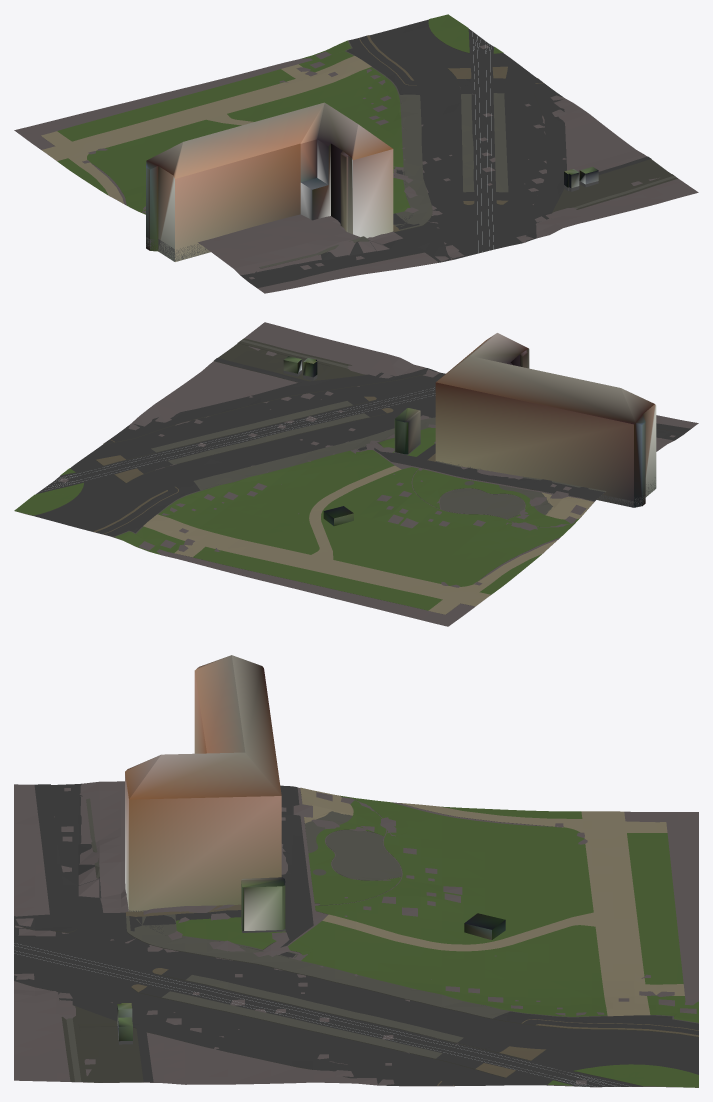
3 views of the same model, one above another, from view 1: azimuth 30°, elevation 25°; view 2: azimuth 150°, elevation 25°; view 3: azimuth 270°, elevation 25° (orthographic). The views are drawn at different scales.
Parts seen in each view (by area): view 1: c_m02_m04; view 2: c_m02_m04; view 3: c_m02_m04.
Part boxes in pixels (box(x1,y1,x2,y2)): c_m02_m04: box(14, 14, 698, 293); c_m02_m04: box(14, 322, 698, 626); c_m02_m04: box(14, 655, 698, 1087).
Size of the model in its own units: 137 by 32.22 by 128.
